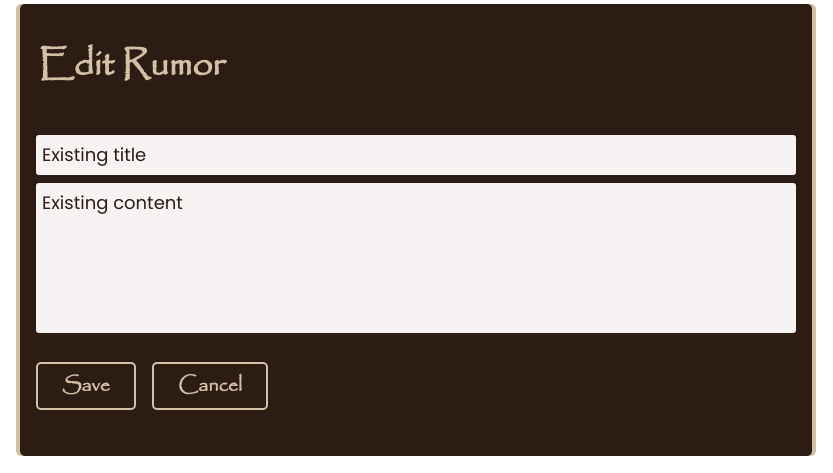
EditPost › shows validation errors when submit with empty fields
Clear the field named "title" at (416, 155), box [36, 135, 796, 175]
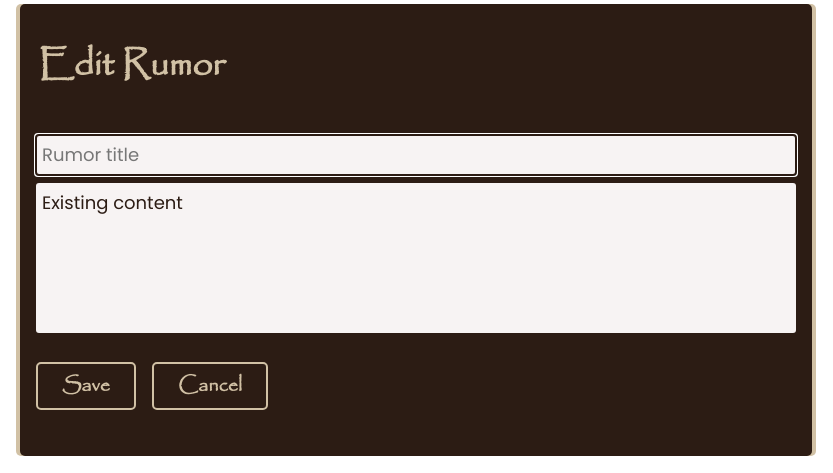
Clear the text box named "content" at (416, 258), box [36, 183, 796, 333]
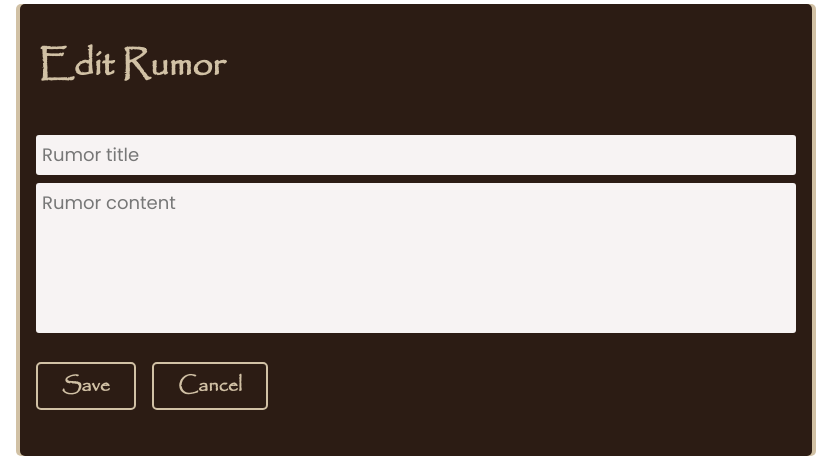
Click the button "Save".
click(86, 386)  # box [36, 362, 136, 410]
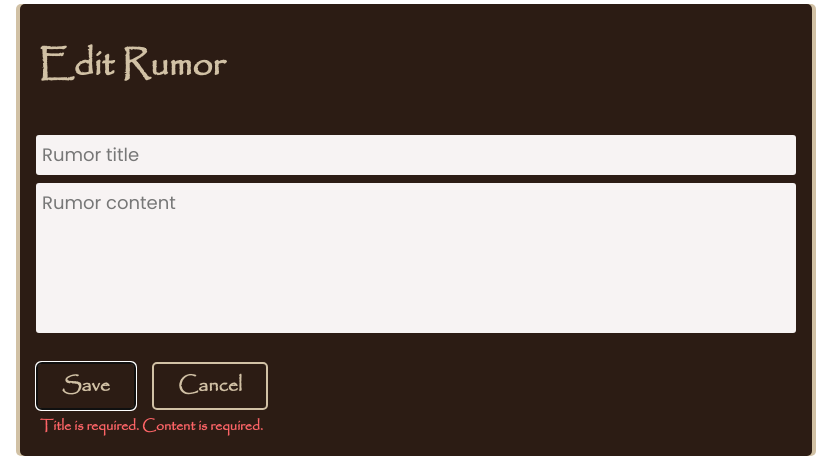
Expected: the text "Title is required." is shown, [40, 415, 142, 437]
Expected: the text "Content is required." is shown, [142, 415, 263, 437]
